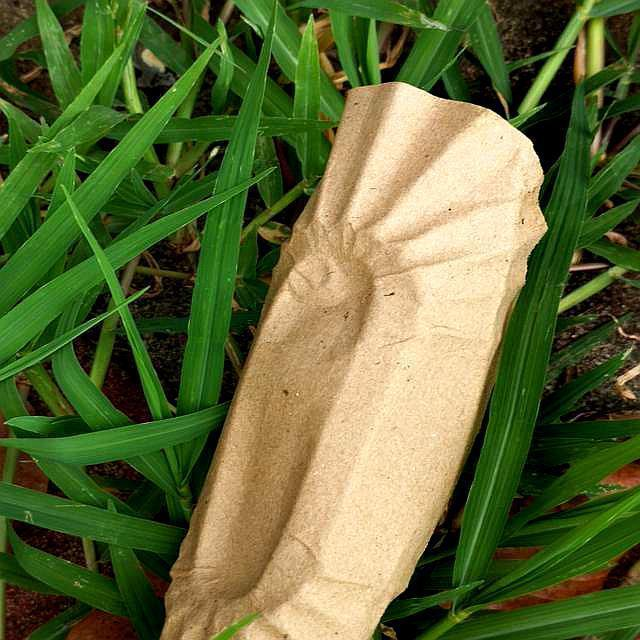Biodegradable: (142, 70, 590, 640)
